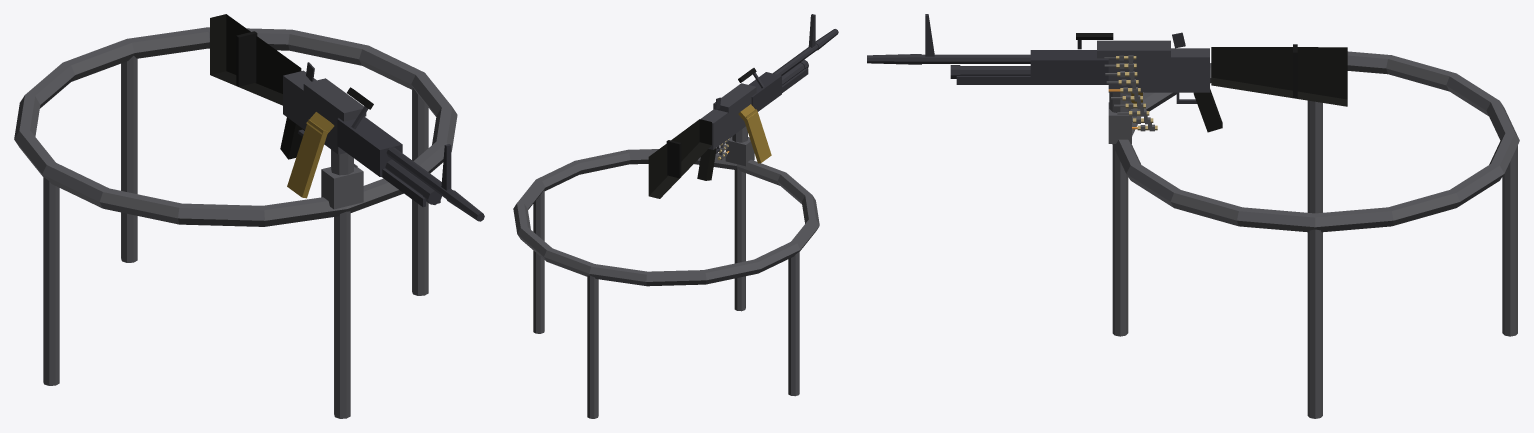
The model's file is m60_ring_mount.glb.
3 views of the same model, side by side, from view 1: azimuth 30°, elevation 25°; view 2: azimuth 150°, elevation 25°; view 3: azimuth 270°, elevation 25° (orthographic). The views are drawn at different scales.
Visible parts, largest first — view 1: vehicle_ring_mount, m60; view 2: vehicle_ring_mount, m60; view 3: vehicle_ring_mount, m60.
Boxes of the visible parts, x1,y1,x2,y2 form: vehicle_ring_mount: [14, 27, 457, 418]; m60: [210, 14, 484, 221]; vehicle_ring_mount: [513, 126, 819, 418]; m60: [648, 14, 838, 198]; vehicle_ring_mount: [1108, 51, 1519, 418]; m60: [867, 14, 1347, 132].
Bounding box in the file's own units: 1.05 × 0.9009 × 1.67.
